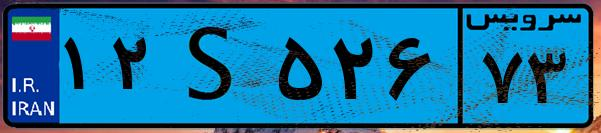1: (57, 26, 110, 100)
2: (330, 28, 385, 110), (110, 28, 158, 98)
3: (525, 38, 570, 115)
5: (270, 28, 330, 110)
6: (385, 28, 445, 110)
7: (475, 38, 525, 113)
S: (158, 12, 270, 120)
